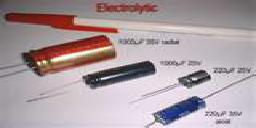Electrolytic-Capacitor: (14, 34, 122, 76), (79, 60, 167, 89), (142, 68, 224, 99), (152, 97, 219, 128)
